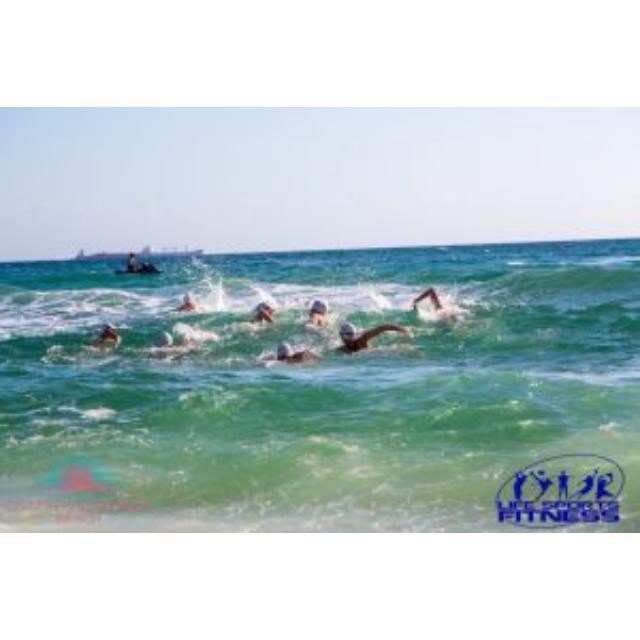human: (338, 314, 412, 348), (268, 338, 314, 365), (411, 282, 451, 311), (247, 300, 279, 325), (303, 295, 328, 324), (175, 287, 200, 316)
